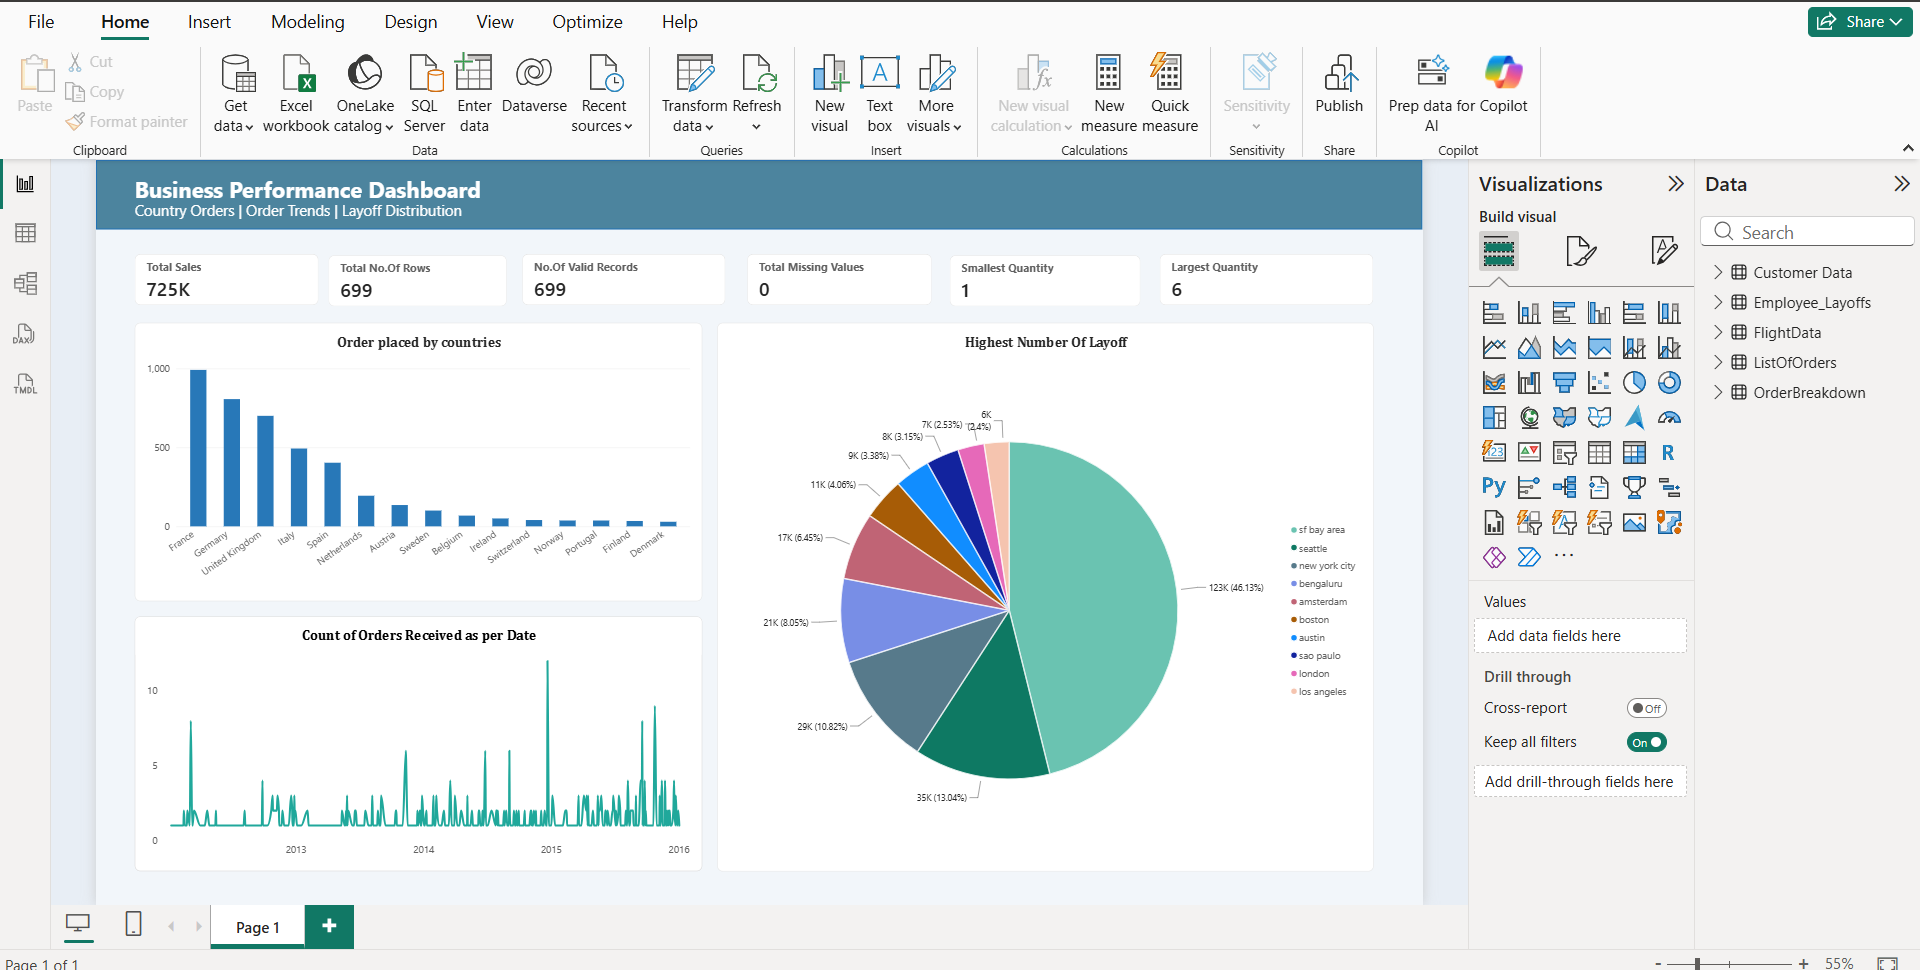

This screenshot's page, from the dashboard's own definition file:
{"tool":"powerbi","page":{"name":"Page 1","canvas":[1920,1080],"ordinal":0},"visuals":[{"type":"shape","box":[0,2,1920,100],"z":0},{"type":"clusteredColumnChart","title":"Order placed by countries","fields":{"Category":["ListOfOrders.Country"],"Y":["CountNonNull(ListOfOrders.Order ID)"]},"box":[56.1,237.1,821.6,403.6],"z":1000},{"type":"lineChart","title":" Count of Orders Received as per Date","fields":{"Category":["Customer Data.Date"],"Y":["CountNonNull(Customer Data.Order ID)"]},"box":[56.1,662.3,821.6,369.2],"z":2000},{"type":"pieChart","title":"Highest Number Of Layoff","fields":{"Category":["Employee_Layoffs.Location"],"Y":["Sum(Employee_Layoffs.Total_Laid_Off)"]},"box":[899.4,237.1,950.1,794.4],"z":3000},{"type":"textbox","box":[56,22,1022,100],"z":4000},{"type":"textbox","box":[56,60,641.1,42.9],"z":5000},{"type":"cardVisual","fields":{"Data":["Customer Data.Smallest Quantity"]},"box":[1236,139.3,276.9,74.2],"z":6000},{"type":"cardVisual","fields":{"Data":["Customer Data.Largest Quantity"]},"box":[1540,137.5,309.5,74.2],"z":7000},{"type":"cardVisual","fields":{"Data":["Customer Data.Total No.Of Rows"]},"box":[336.6,139.3,258.8,74.2],"z":8000},{"type":"cardVisual","fields":{"Data":["Customer Data.Total Missing Values"]},"box":[942.8,137.5,267.8,74.2],"z":9000},{"type":"cardVisual","fields":{"Data":["Customer Data.No.Of Valid Records"]},"box":[617.1,137.5,295,74.2],"z":10000},{"type":"cardVisual","fields":{"Data":["Customer Data.Total Sales"]},"box":[56.1,137.5,266,74.2],"z":11000}]}

Visuals, with their boxes on the page's 1920x1080 design canvas (x1, y1, x2, y2). These are canvas units, not pixel positions in the 1920x970 screenshot, which may show the page scaled, cropped or inside an application window:
shape: [x1=0, y1=2, x2=1920, y2=102]
"Order placed by countries" clusteredColumnChart: [x1=56, y1=237, x2=878, y2=641]
" Count of Orders Received as per Date" lineChart: [x1=56, y1=662, x2=878, y2=1032]
"Highest Number Of Layoff" pieChart: [x1=899, y1=237, x2=1850, y2=1032]
textbox: [x1=56, y1=22, x2=1078, y2=122]
textbox: [x1=56, y1=60, x2=697, y2=103]
cardVisual - Customer Data.Smallest Quantity: [x1=1236, y1=139, x2=1513, y2=214]
cardVisual - Customer Data.Largest Quantity: [x1=1540, y1=138, x2=1850, y2=212]
cardVisual - Customer Data.Total No.Of Rows: [x1=337, y1=139, x2=595, y2=214]
cardVisual - Customer Data.Total Missing Values: [x1=943, y1=138, x2=1211, y2=212]
cardVisual - Customer Data.No.Of Valid Records: [x1=617, y1=138, x2=912, y2=212]
cardVisual - Customer Data.Total Sales: [x1=56, y1=138, x2=322, y2=212]
